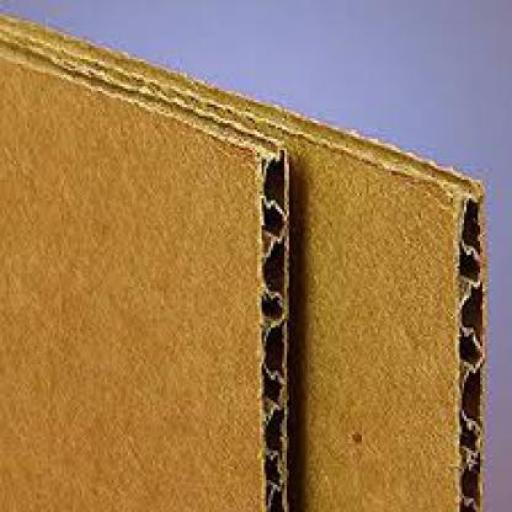cardboard: (0, 9, 490, 510), (0, 27, 289, 510)
